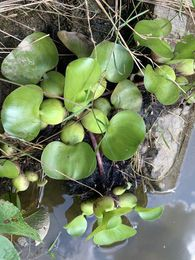water_hyacinth: (2, 18, 194, 259)
